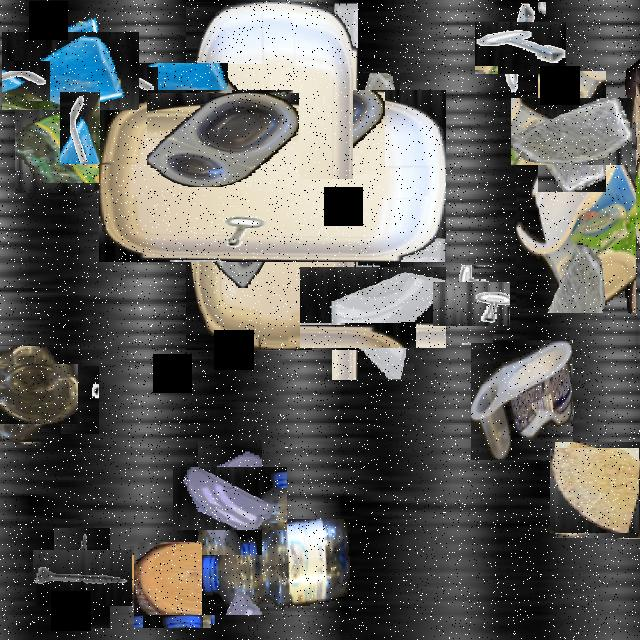glass: (316, 250, 430, 364), (16, 17, 124, 125), (525, 84, 619, 179), (186, 453, 274, 542), (344, 73, 400, 172)
metal: (293, 73, 353, 179), (43, 539, 121, 617), (484, 12, 556, 84), (441, 274, 502, 334), (60, 92, 100, 164), (61, 366, 99, 434)
plastic: (142, 46, 402, 306), (35, 42, 207, 214), (516, 124, 640, 313), (161, 79, 285, 202), (202, 519, 350, 615), (471, 340, 573, 460), (0, 355, 69, 433), (636, 69, 640, 361)
wood: (552, 445, 640, 535), (131, 544, 213, 626), (622, 52, 640, 212)
